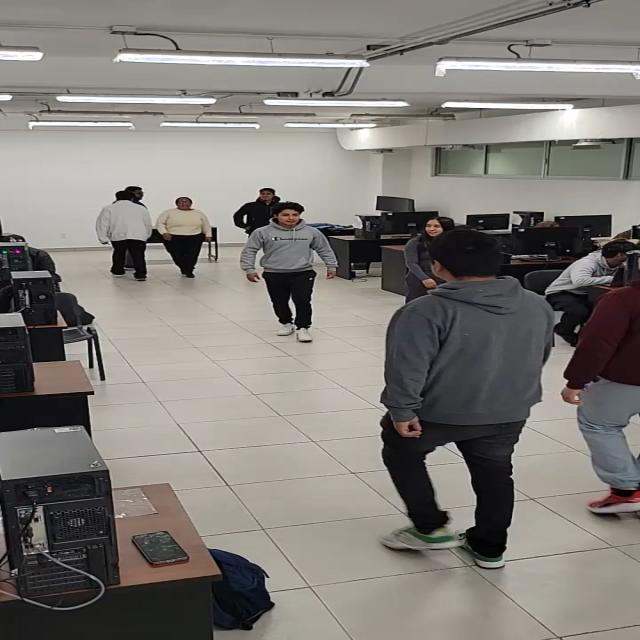Persona: (379, 229, 557, 572), (562, 283, 640, 517), (241, 202, 341, 344), (96, 190, 154, 282), (155, 196, 214, 280), (401, 218, 455, 302), (232, 187, 284, 238), (126, 183, 150, 208)
